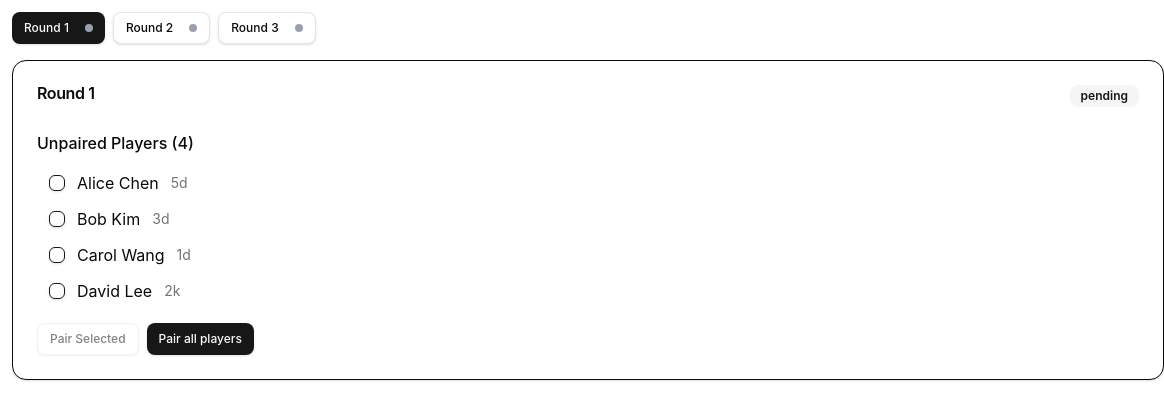
Scenario: RoundManager › Pair Selected button disabled until exactly 2 players selected
Expected: the button "Pair Selected" is disabled, [37,323,139,355]
Select two players via checkboxes
Click the checkbox next to "Alice Chen" at (57, 183), box [49,175,65,191]
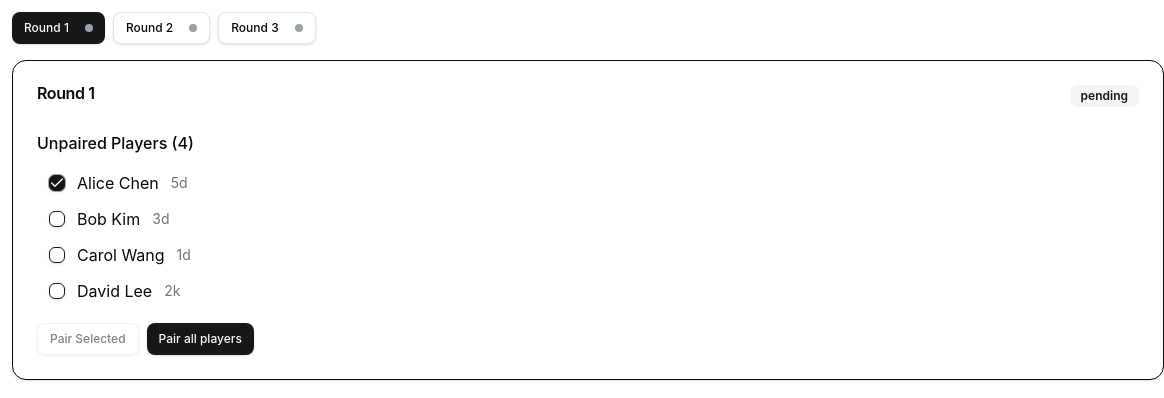
Expected: the button "Pair Selected" is disabled, [37,323,139,355]
Click the checkbox next to "Bob Kim" at (57, 219), box [49,211,65,227]
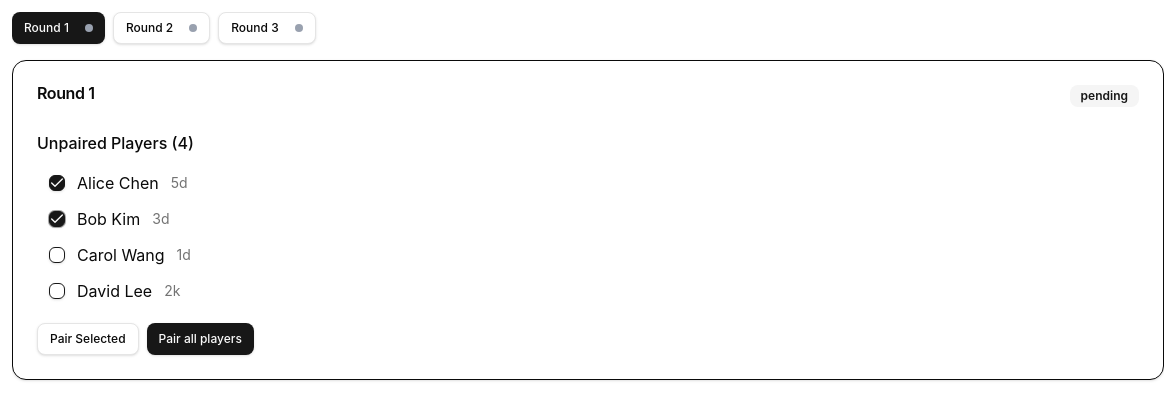
Result: the button "Pair Selected" is enabled at [37,323,139,355]
